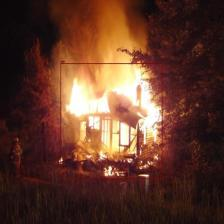fire: (60, 63, 162, 179)
